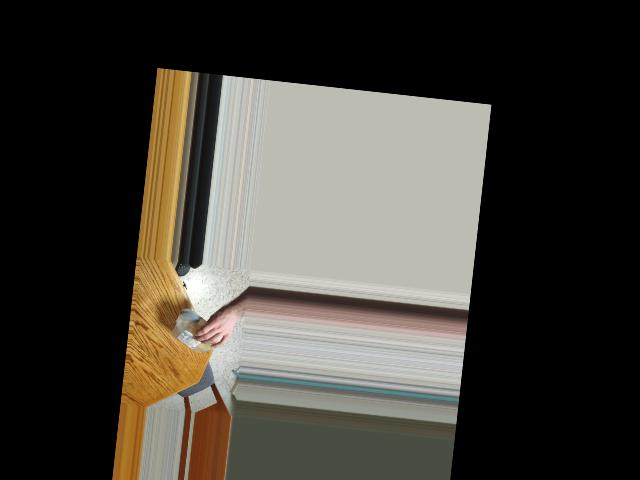cheese: (174, 319, 217, 352)
